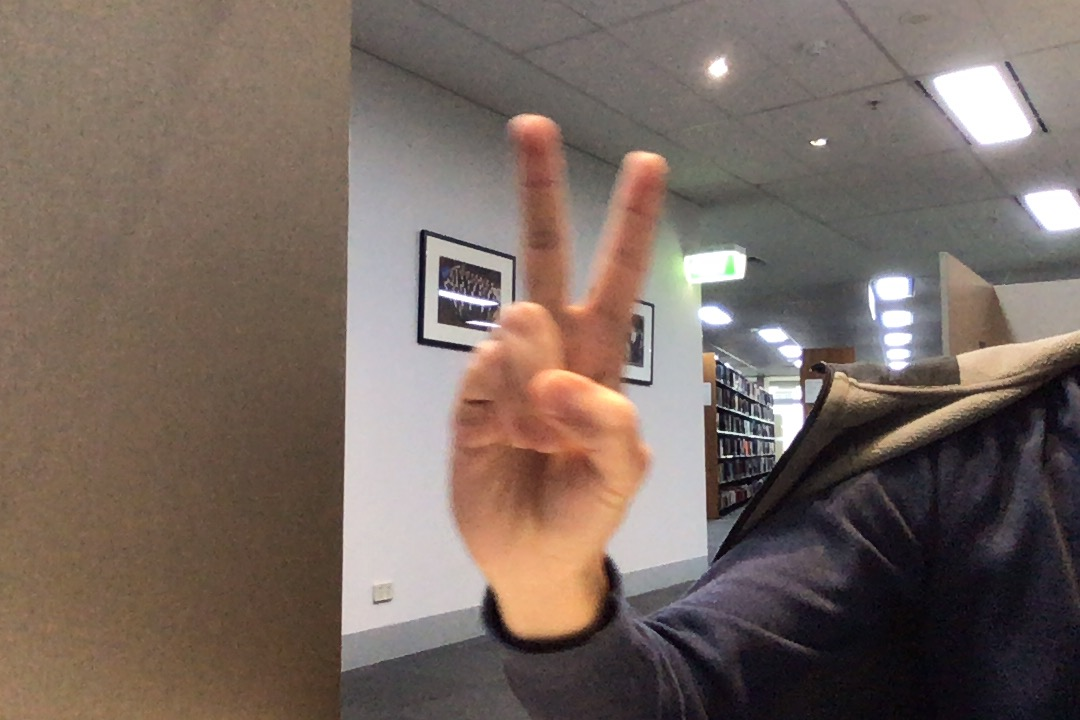peacesign: (438, 98, 678, 581)
